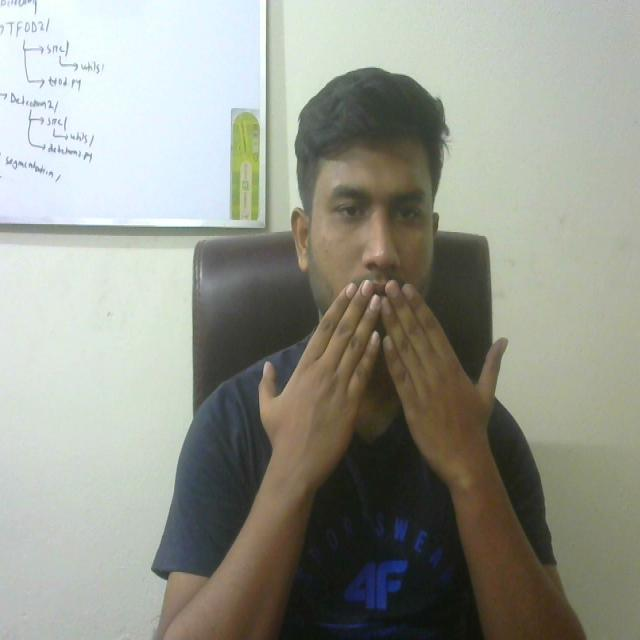Thanks: (247, 271, 516, 502)
